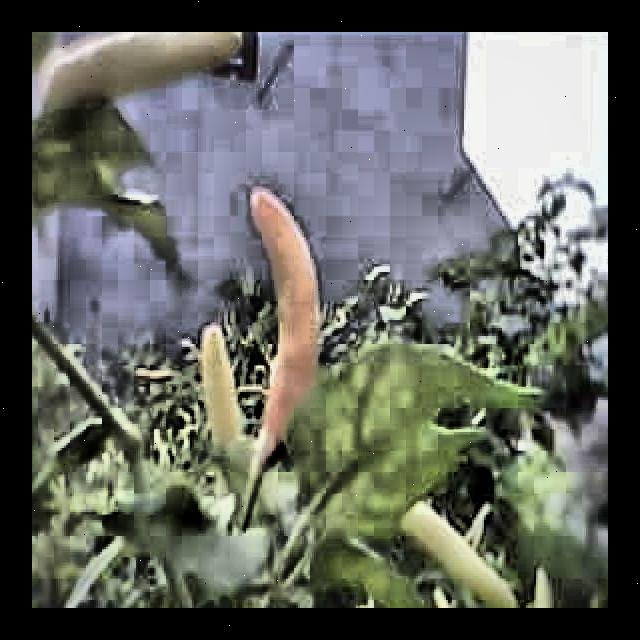Cabai: (247, 184, 342, 447)
